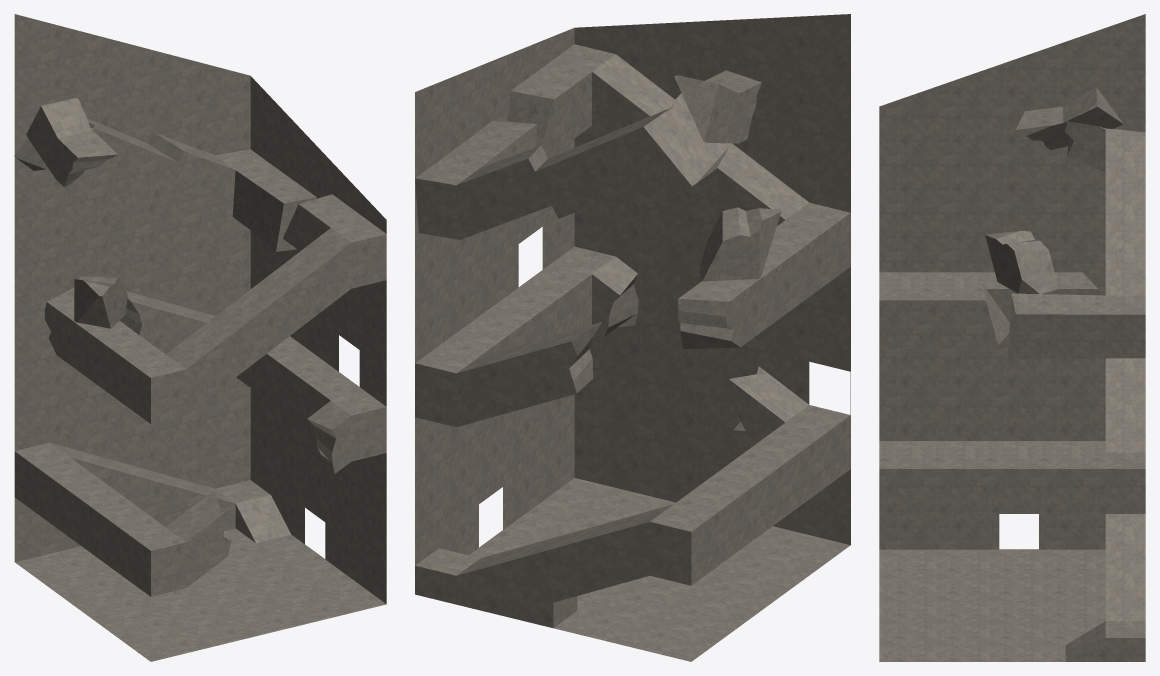
Rendered from pillar_foundation.gltf.
3 views of the same model, side by side, from view 1: azimuth 30°, elevation 25°; view 2: azimuth 150°, elevation 25°; view 3: azimuth 270°, elevation 25° (orthographic). The views are drawn at different scales.
Visible parts, largest first — view 1: Room, Stairs; view 2: Room, Stairs; view 3: Room, Stairs.
Boxes of the visible parts, x1,y1,x2,y2 form: Room: [14, 14, 386, 661]; Stairs: [14, 97, 386, 596]; Room: [415, 14, 850, 661]; Stairs: [415, 44, 850, 627]; Room: [879, 14, 1145, 661]; Stairs: [879, 87, 1145, 661].
Size of what is drawn, in the model's own units: 20.11 by 44.42 by 20.
1 material, 1 textured.
